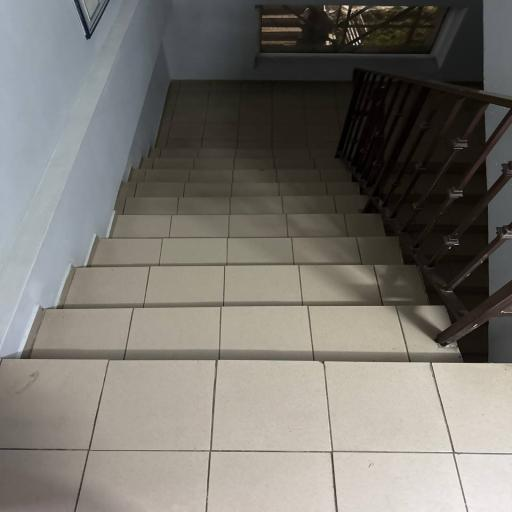sofa: (0, 82, 511, 511)
